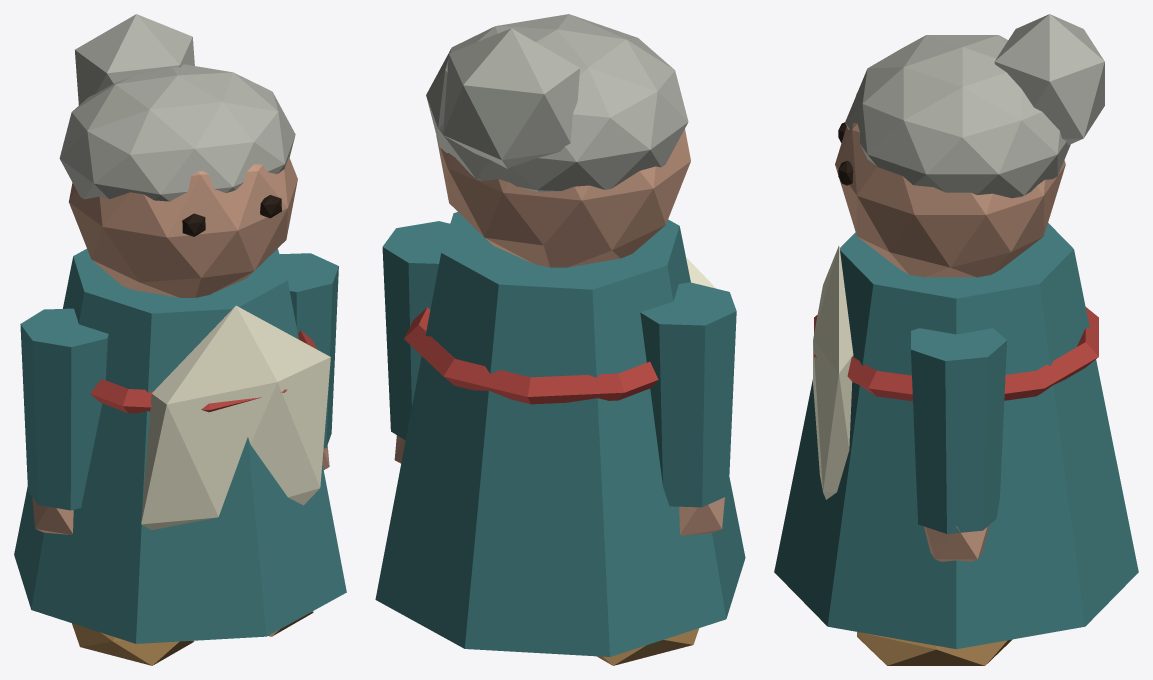
File: grandma.glb
3 renders of one model, left to right at view 1: azimuth 30°, elevation 25°; view 2: azimuth 150°, elevation 25°; view 3: azimuth 270°, elevation 25°, orthographic. The views are drawn at different scales.
Parts seen in each view (by area): view 1: Body, Apron, HairCap, Head, LeftArm, HairBun, RightArm, LeftSandal, WaistSash, LeftHand; view 2: Body, HairCap, LeftArm, Head, HairBun, RightArm, WaistSash, LeftHand, LeftSandal; view 3: Body, HairCap, RightArm, Head, HairBun, Apron, WaistSash, RightSandal, RightHand.
Part boxes in pixels (x1,y1,x2,y2): Body: (14,248,346,643); Apron: (141,305,330,529); HairCap: (59,64,295,201); Head: (69,157,297,297); LeftArm: (20,308,108,510); HairBun: (75,14,194,105); RightArm: (279,253,338,448); LeftSandal: (72,623,194,665); WaistSash: (90,330,316,413); LeftHand: (32,497,73,534); Body: (375,212,745,656); HairCap: (426,14,688,192); LeftArm: (640,282,736,507); Head: (436,129,690,267); HairBun: (443,28,579,168); RightArm: (382,221,449,440); WaistSash: (404,307,658,404); LeftHand: (679,497,724,535); LeftSandal: (597,628,698,665); Body: (774,223,1138,649); HairCap: (845,35,1070,198); RightArm: (911,328,1006,533); Head: (835,93,1065,277); HairBun: (994,14,1104,145); Apron: (813,246,853,499); WaistSash: (814,307,1098,401); RightSandal: (857,632,1012,665); RightHand: (924,525,989,561).
Size of the model in its own units: 0.9237 by 1.67 by 0.9.
